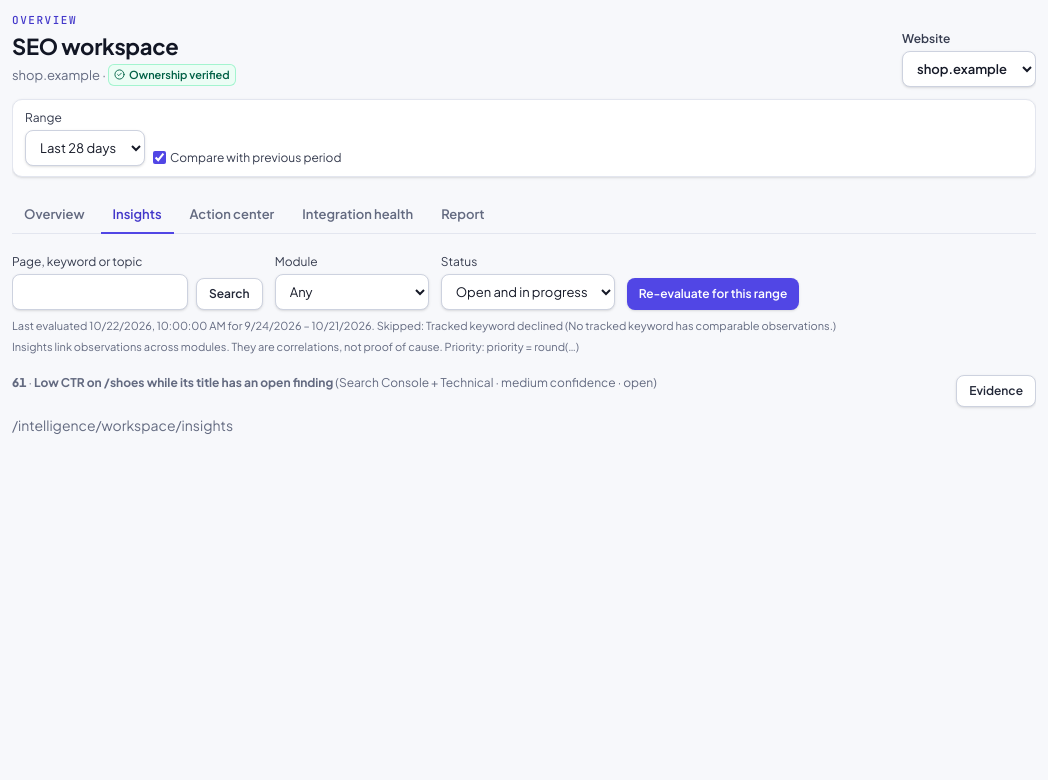
Test case: Insights explorer › filters, shows evidence with sources and limitations, and records status
This screenshot has width=1048, height=780.
Check: the text "Low CTR on /shoes while its title has an open finding" is shown, box [34,375,333,390]
Check: the text "Skipped: Tracked keyword declined (No tracked keyword has comparable observations.)" is shown, box [375,319,836,332]
Select "Technical" in the dropdown labelled "Module": [352, 292] box [275,274,429,310]
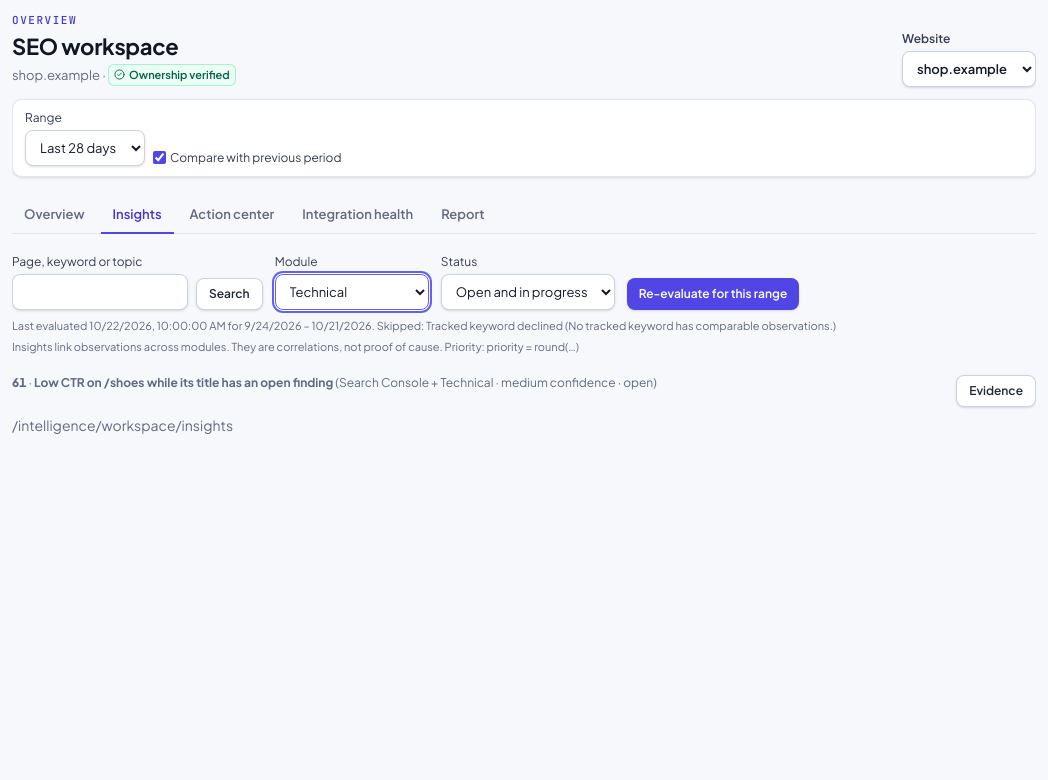
Click the button "Evidence": [996, 391] box [956,375,1036,407]
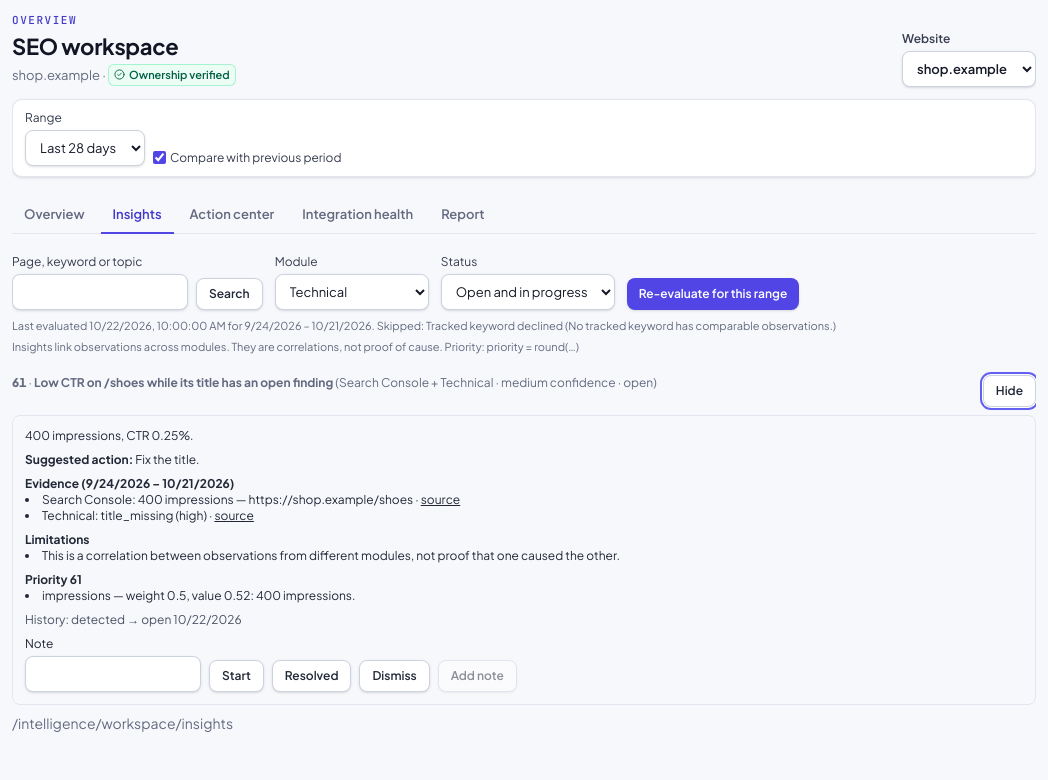
Check: the list item "Technical: title_missing (high) · source" is shown, box [42,508,254,523]
Check: the list item "not proof that one caused the other" is shown, box [42,548,620,563]
Click the button "Start": [236, 676] box [209,660,264,692]
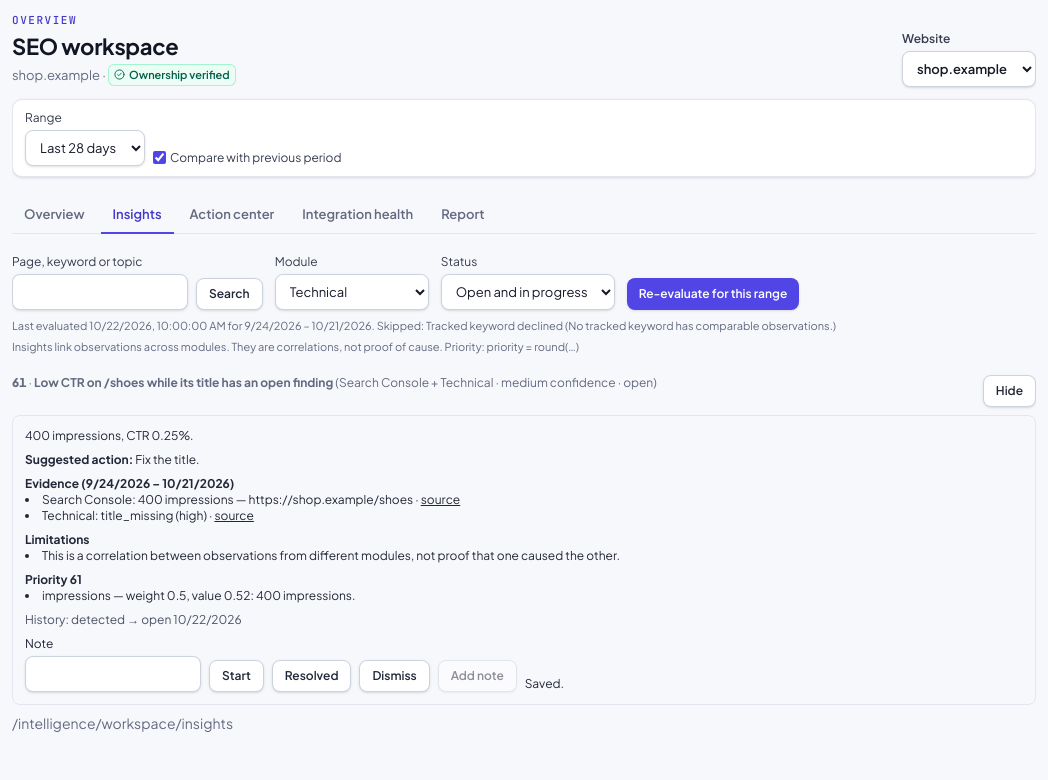
Click the button "Re-evaluate for this range": [713, 294] box [627,278,799,310]
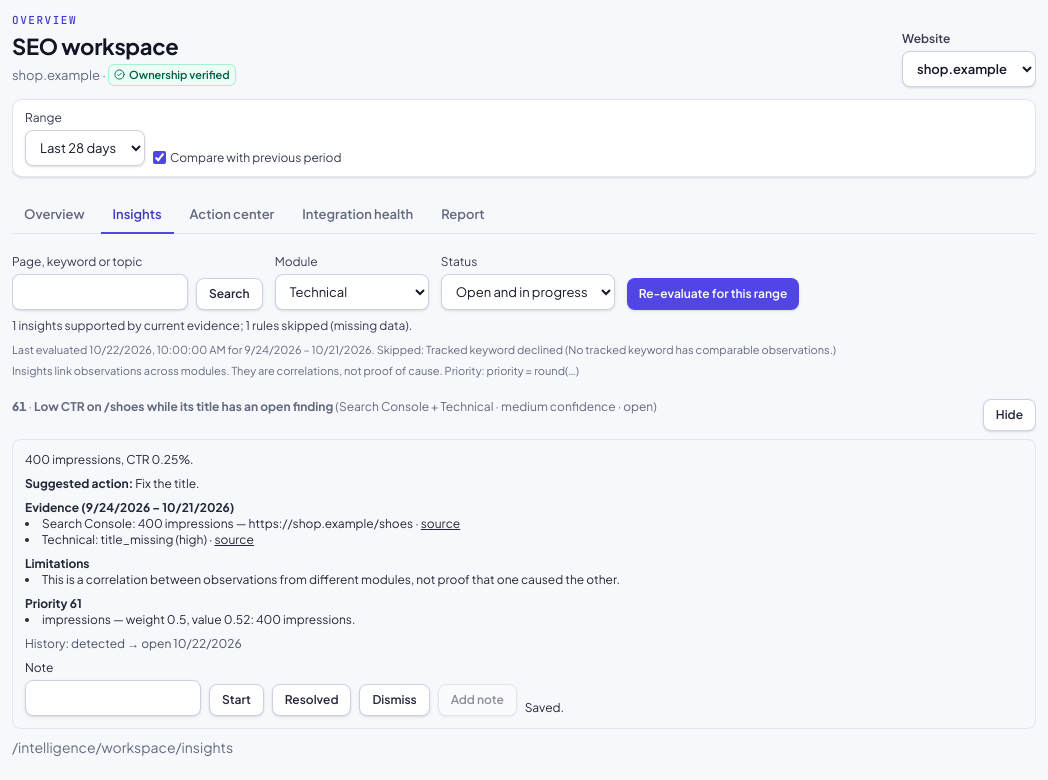
Check: the text "1 insights supported by current evidence; 1 rules skipped (missing data)." is shown, box [12,318,412,333]
